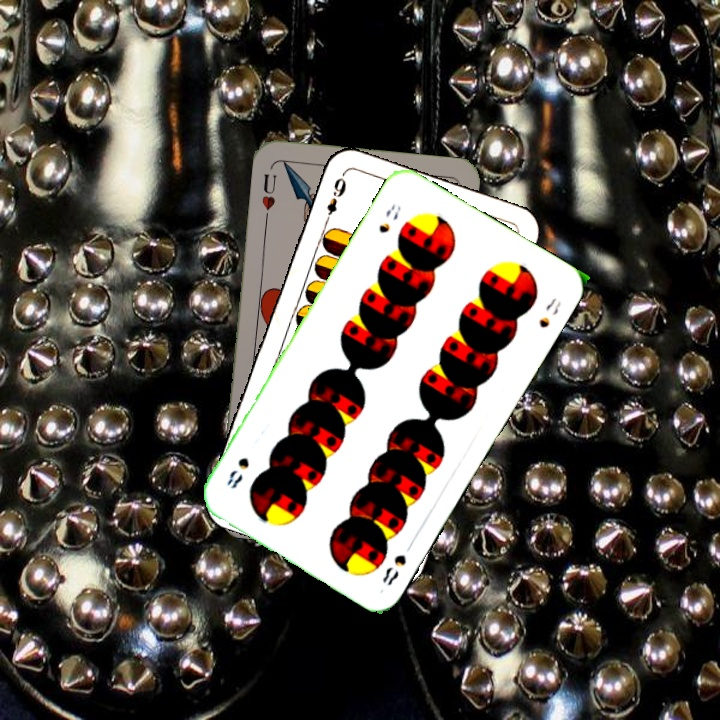E9: (320, 171, 349, 228)
HU: (257, 169, 279, 223)
S8: (378, 537, 417, 588), (374, 200, 404, 236)
